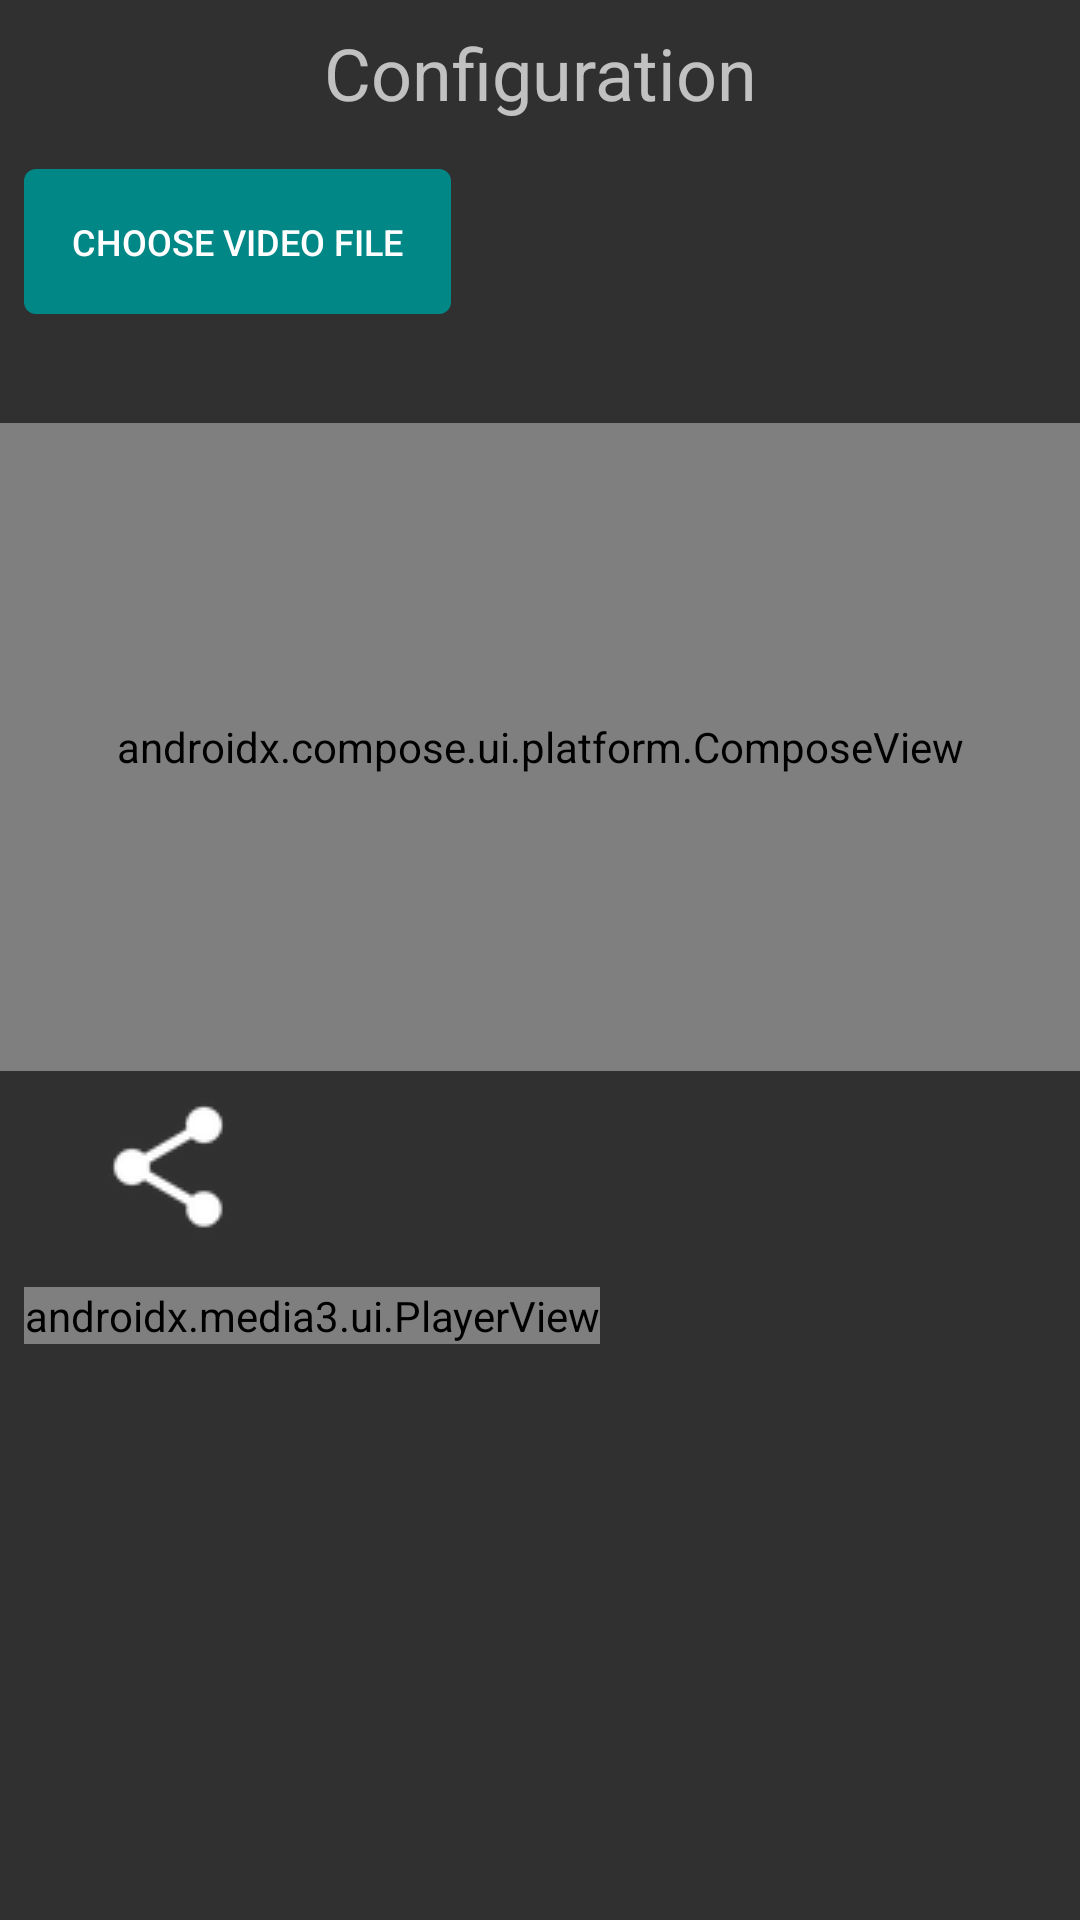

Icon click points for this 1080×1920 phone screenshot, format (x,y):
Share: (168,1167)
